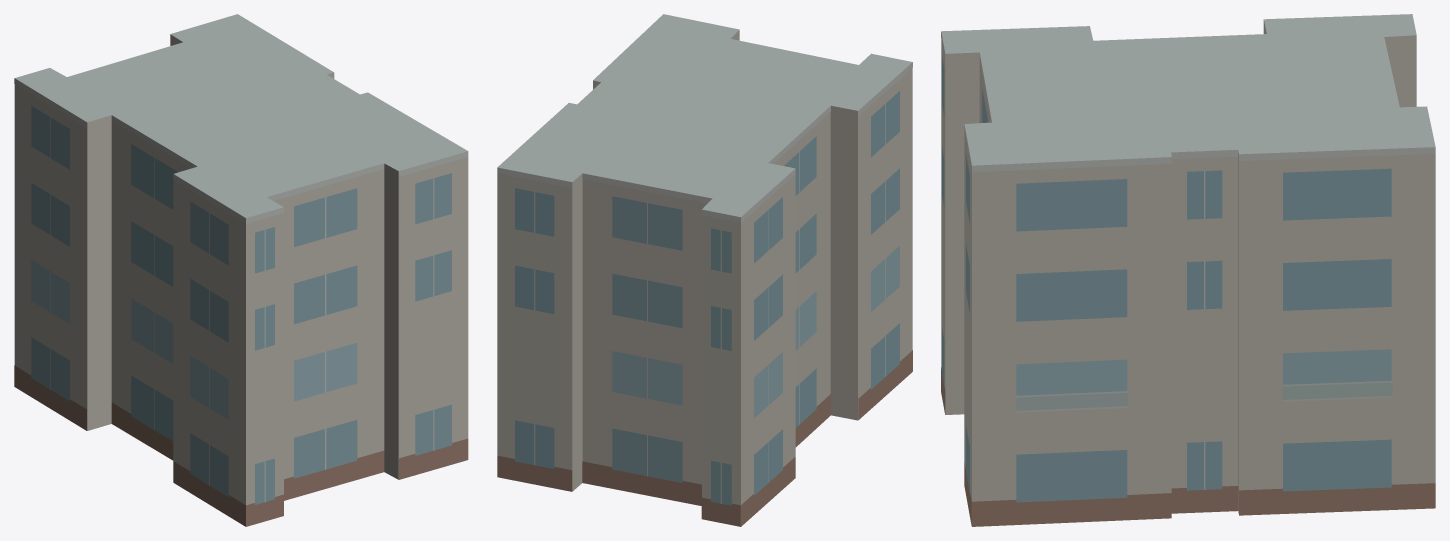
File: survey-upis-32473646.glb
3 views of the same model, side by side, from view 1: azimuth 30°, elevation 25°; view 2: azimuth 150°, elevation 25°; view 3: azimuth 270°, elevation 25° (orthographic). The views are drawn at different scales.
Parts seen in each view (by area): view 1: survey-upis-32473646.tmp; view 2: survey-upis-32473646.tmp; view 3: survey-upis-32473646.tmp.
Boxes of the visible parts, x1,y1,x2,y2 form: survey-upis-32473646.tmp: (14,14,468,526); survey-upis-32473646.tmp: (497,14,912,526); survey-upis-32473646.tmp: (941,14,1435,526).
Bounding box in the file's own units: 11.8 × 13.1 × 16.26.
